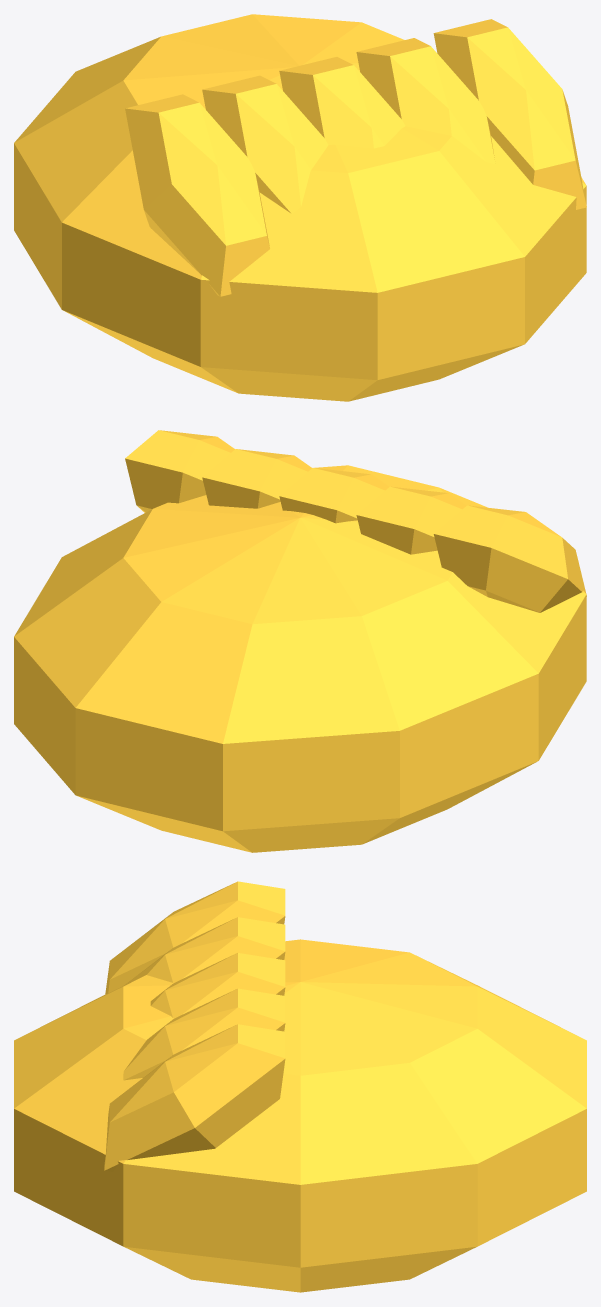
Rendered from gold_toupee.glb.
3 renders of one model, top to bottom at view 1: azimuth 30°, elevation 25°; view 2: azimuth 150°, elevation 25°; view 3: azimuth 270°, elevation 25°, orthographic. The views are drawn at different scales.
Parts seen in each view (by area): view 1: wig_gold; view 2: wig_gold; view 3: wig_gold.
Part boxes in pixels (x1,y1,x2,y2): wig_gold: (14,14,586,401); wig_gold: (14,430,586,852); wig_gold: (14,881,586,1292).
Size of the model in its own units: 0.2473 by 0.1503 by 0.2714.
